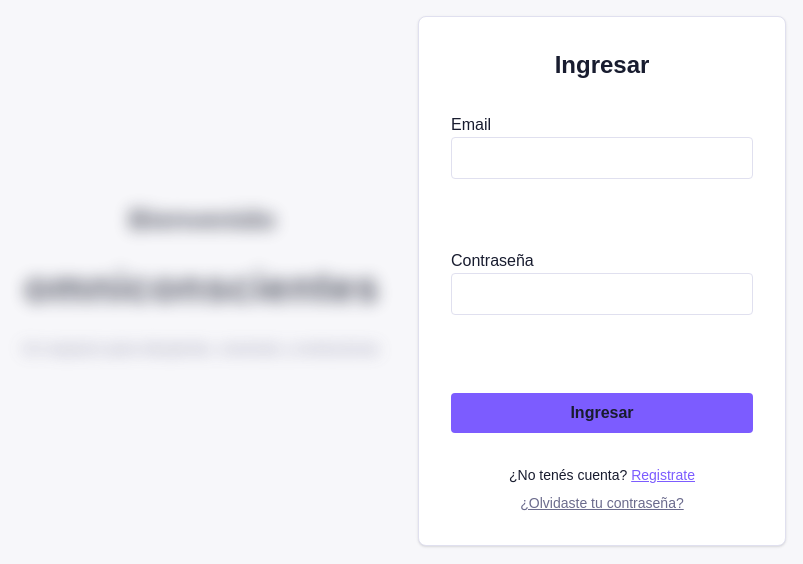
AuthForm › Loading State › should disable form inputs while loading
Type "test@example.com" into the field with test id "email-input".
click(602, 158); type("test@example.com")  # box [451,137,753,179]
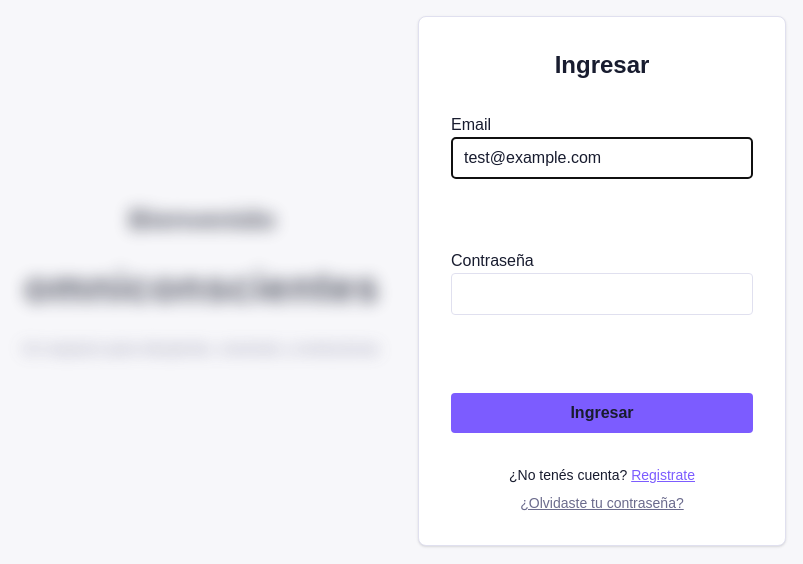
Type "password123" into the password field with test id "password-input".
click(602, 294); type("password123")  # box [451,273,753,315]
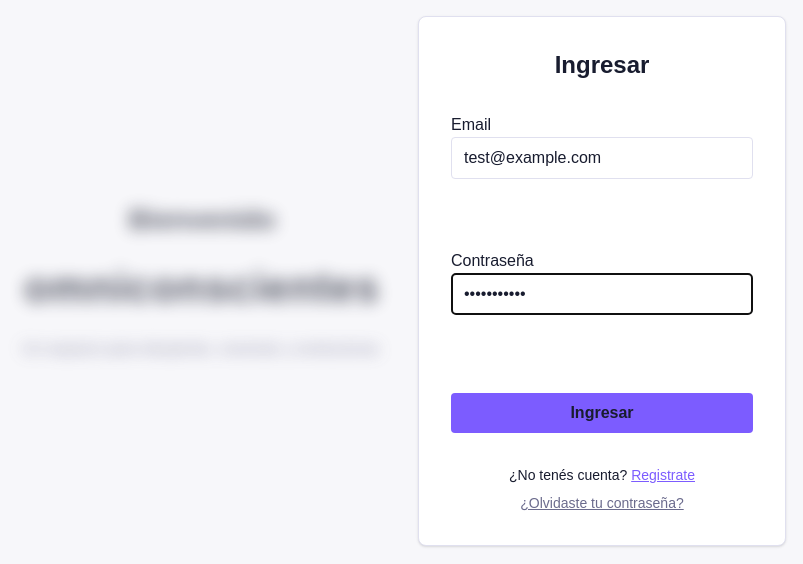
Click the button with test id "submit-button".
click(602, 413)  # box [451,393,753,433]
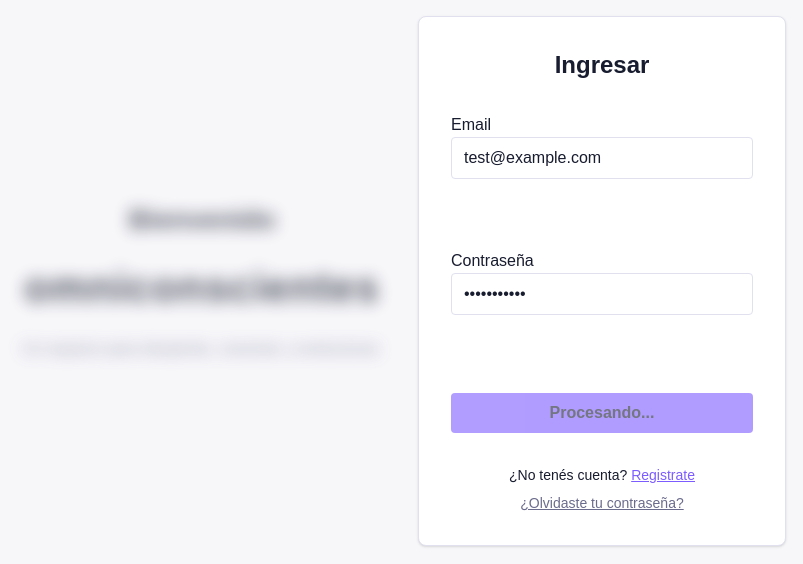
Expected: the field with test id "email-input" is disabled, [451,137,753,179]
Result: the button with test id "submit-button" is disabled at [451,393,753,433]
